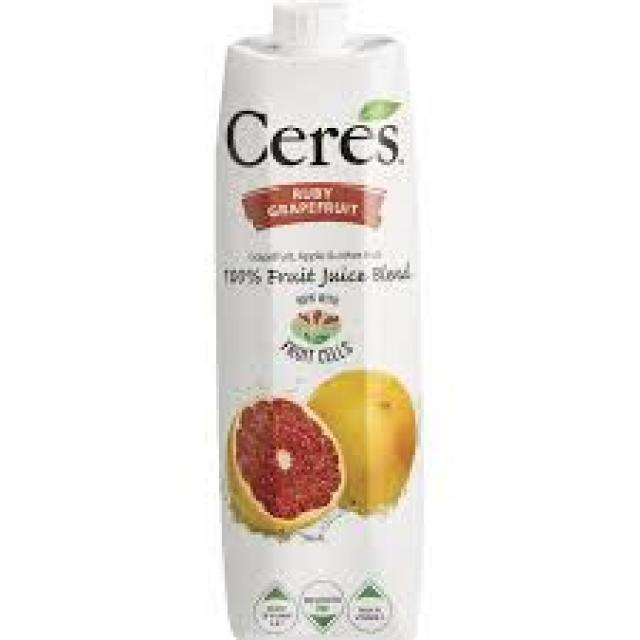non_white_jug: (202, 7, 435, 636)
